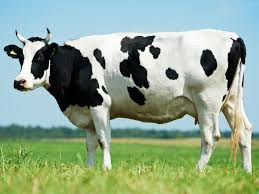waka: (3, 24, 256, 177)
